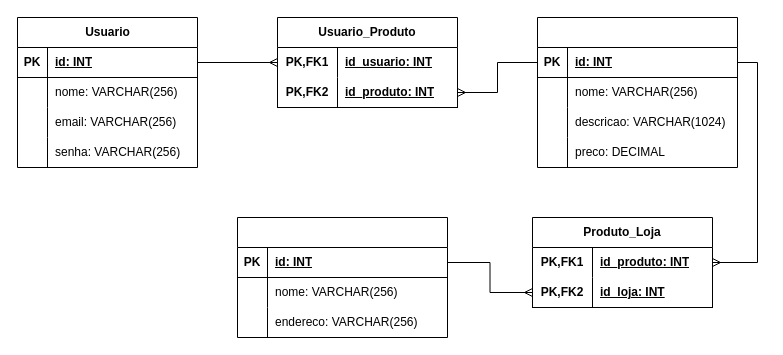
This 783x355 diagram has some shape labels left out. Each missing label, with the box of its shape:
Loja: (236, 216, 448, 338)
Produto: (536, 16, 738, 168)
